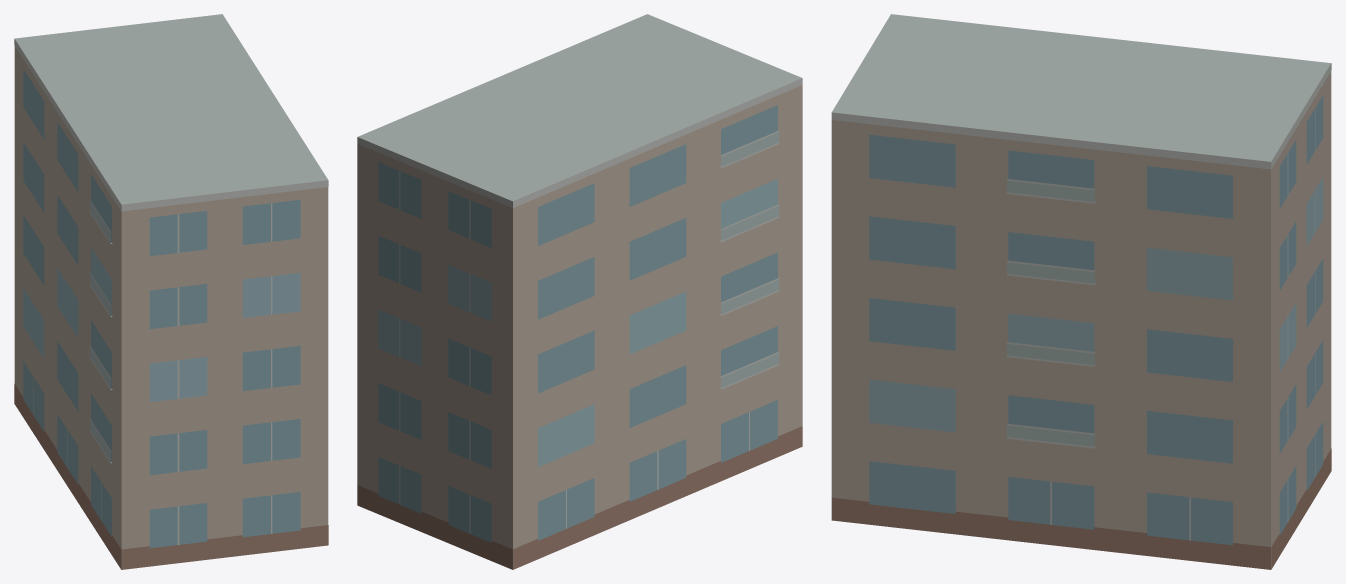
The model's file is survey-upis-32711186.glb.
3 renders of one model, left to right at view 1: azimuth 30°, elevation 25°; view 2: azimuth 150°, elevation 25°; view 3: azimuth 270°, elevation 25°, orthographic. The views are drawn at different scales.
Parts seen in each view (by area): view 1: survey-upis-32711186.tmp; view 2: survey-upis-32711186.tmp; view 3: survey-upis-32711186.tmp.
Boxes of the visible parts, x1,y1,x2,y2 form: survey-upis-32711186.tmp: (14,14,328,569); survey-upis-32711186.tmp: (357,14,802,569); survey-upis-32711186.tmp: (831,14,1331,569).
Bounding box in the file's own units: 10.27 × 13.2 × 14.67.
